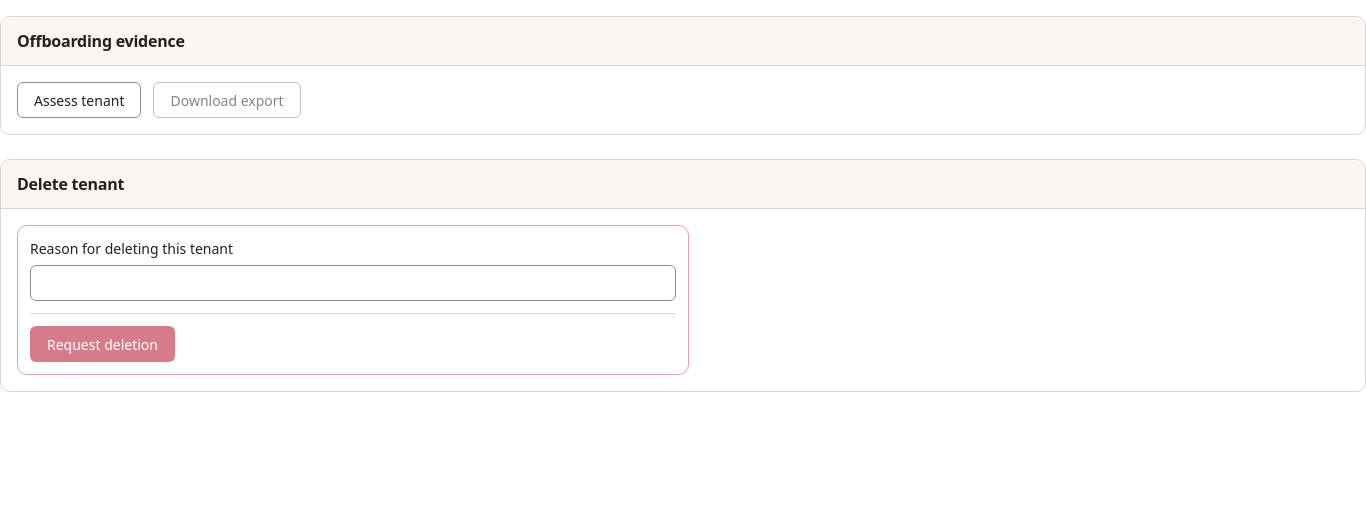
Test: TenantDeletionTab › keeps the request action closed while the assessment reports a blocker
Step 1. Click the button "Assess tenant" → (79, 100), box [17, 82, 142, 118]
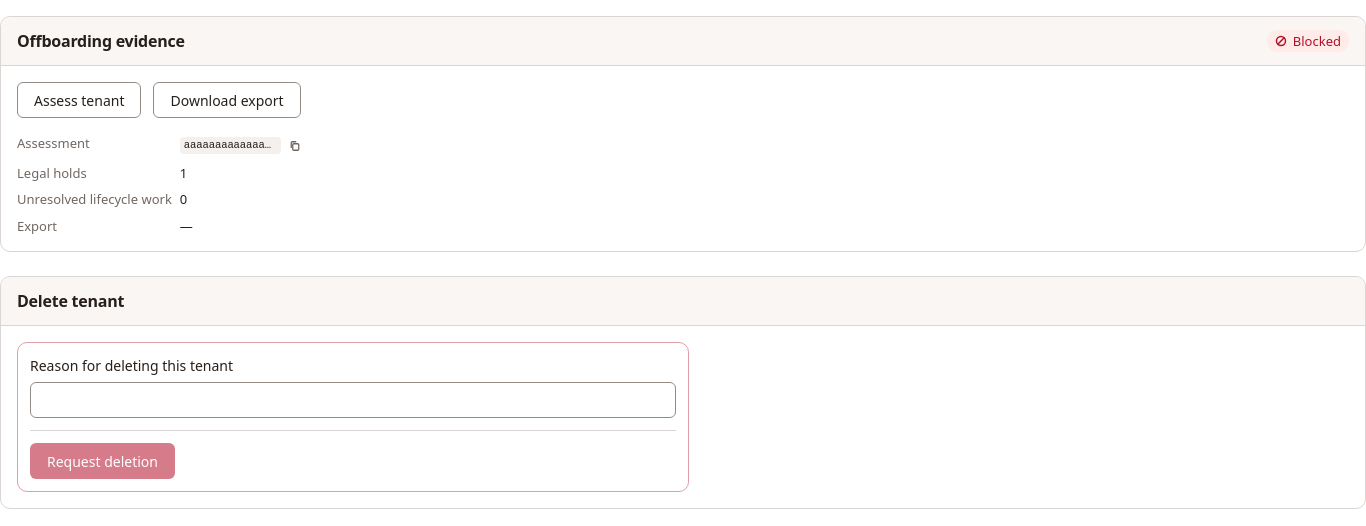
Expected: the button "Request deletion" is disabled, [30, 443, 175, 479]
Expected: the text "Blocked" is shown, [1267, 30, 1349, 52]
